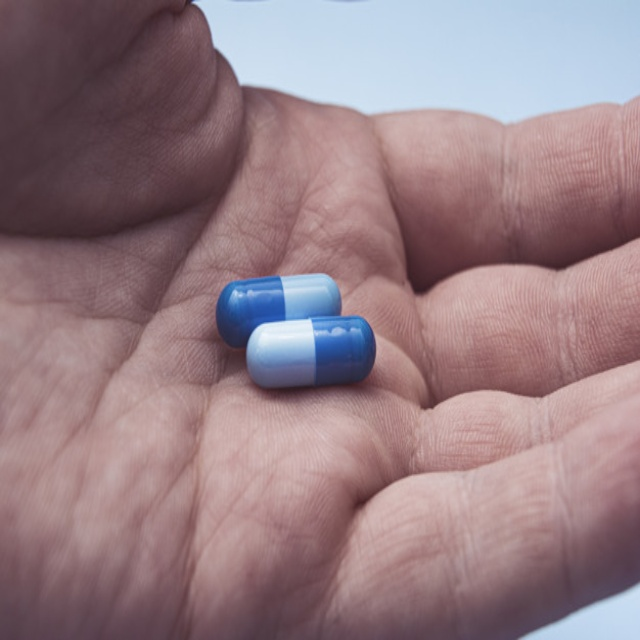pill: (211, 177, 338, 227), (241, 207, 369, 253)
